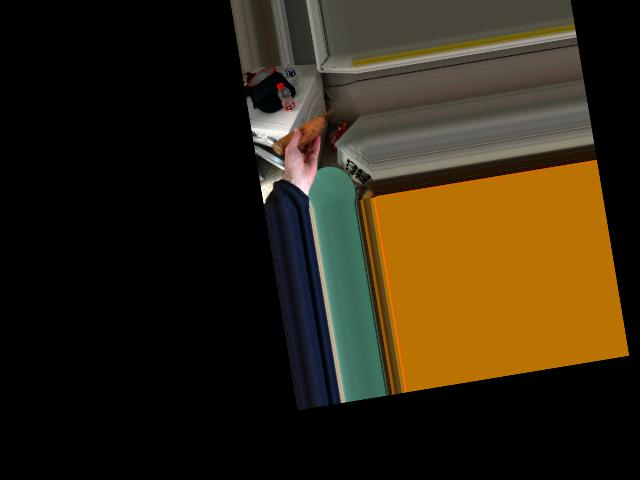sweet_potato: (272, 115, 323, 154)
